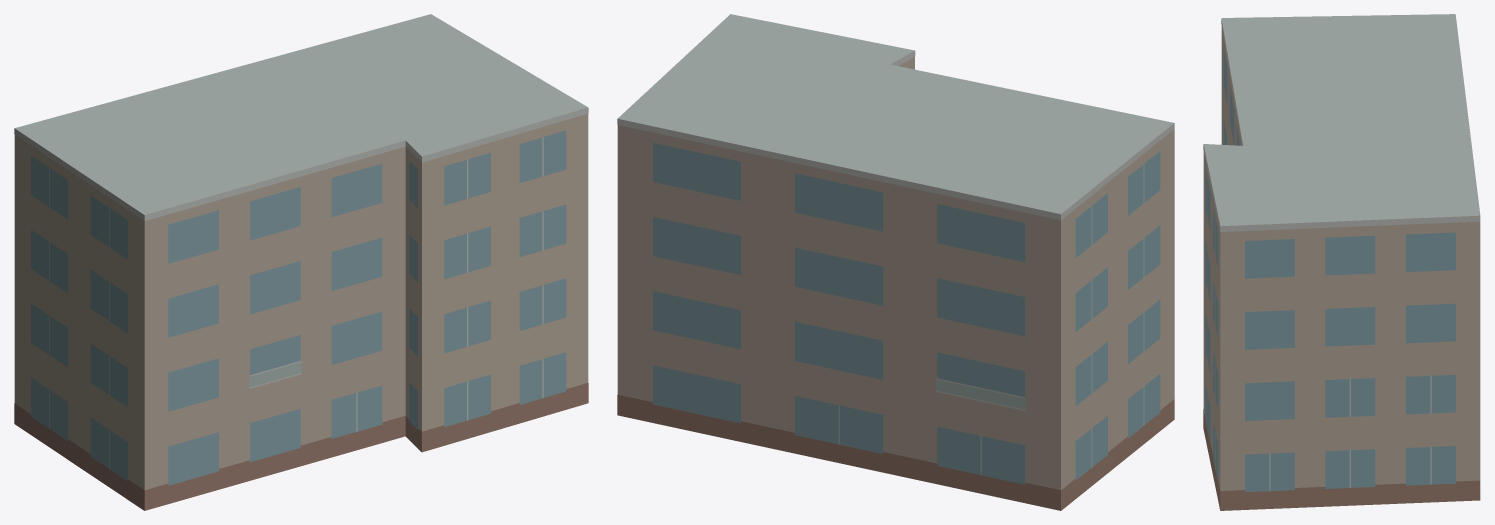
Rendered from survey-upis-32961469.glb.
3 views of the same model, side by side, from view 1: azimuth 30°, elevation 25°; view 2: azimuth 150°, elevation 25°; view 3: azimuth 270°, elevation 25° (orthographic). The views are drawn at different scales.
Parts seen in each view (by area): view 1: survey-upis-32961469.tmp; view 2: survey-upis-32961469.tmp; view 3: survey-upis-32961469.tmp.
Part boxes in pixels (x1,y1,x2,y2): survey-upis-32961469.tmp: [14, 14, 588, 510]; survey-upis-32961469.tmp: [617, 14, 1174, 510]; survey-upis-32961469.tmp: [1203, 14, 1480, 510].
Size of the model in its own units: 18.87 by 11.8 by 10.41.
